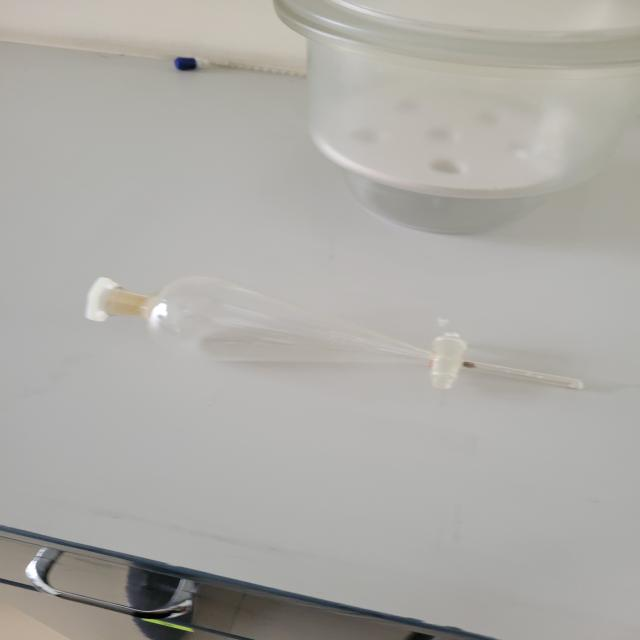Separating_Funnel: (53, 245, 604, 437)
